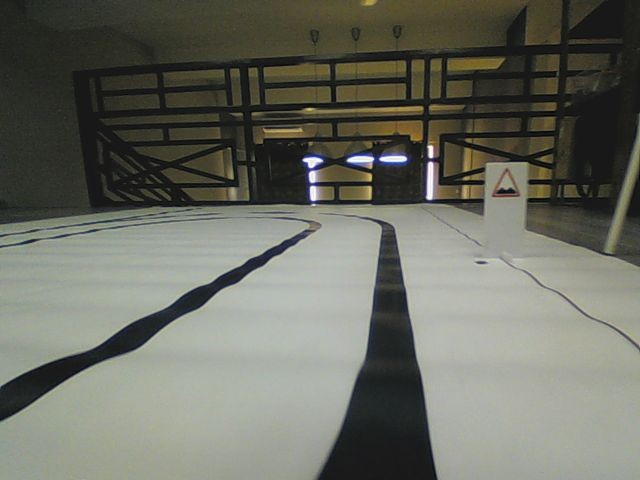Nerov: (491, 167, 520, 199)
